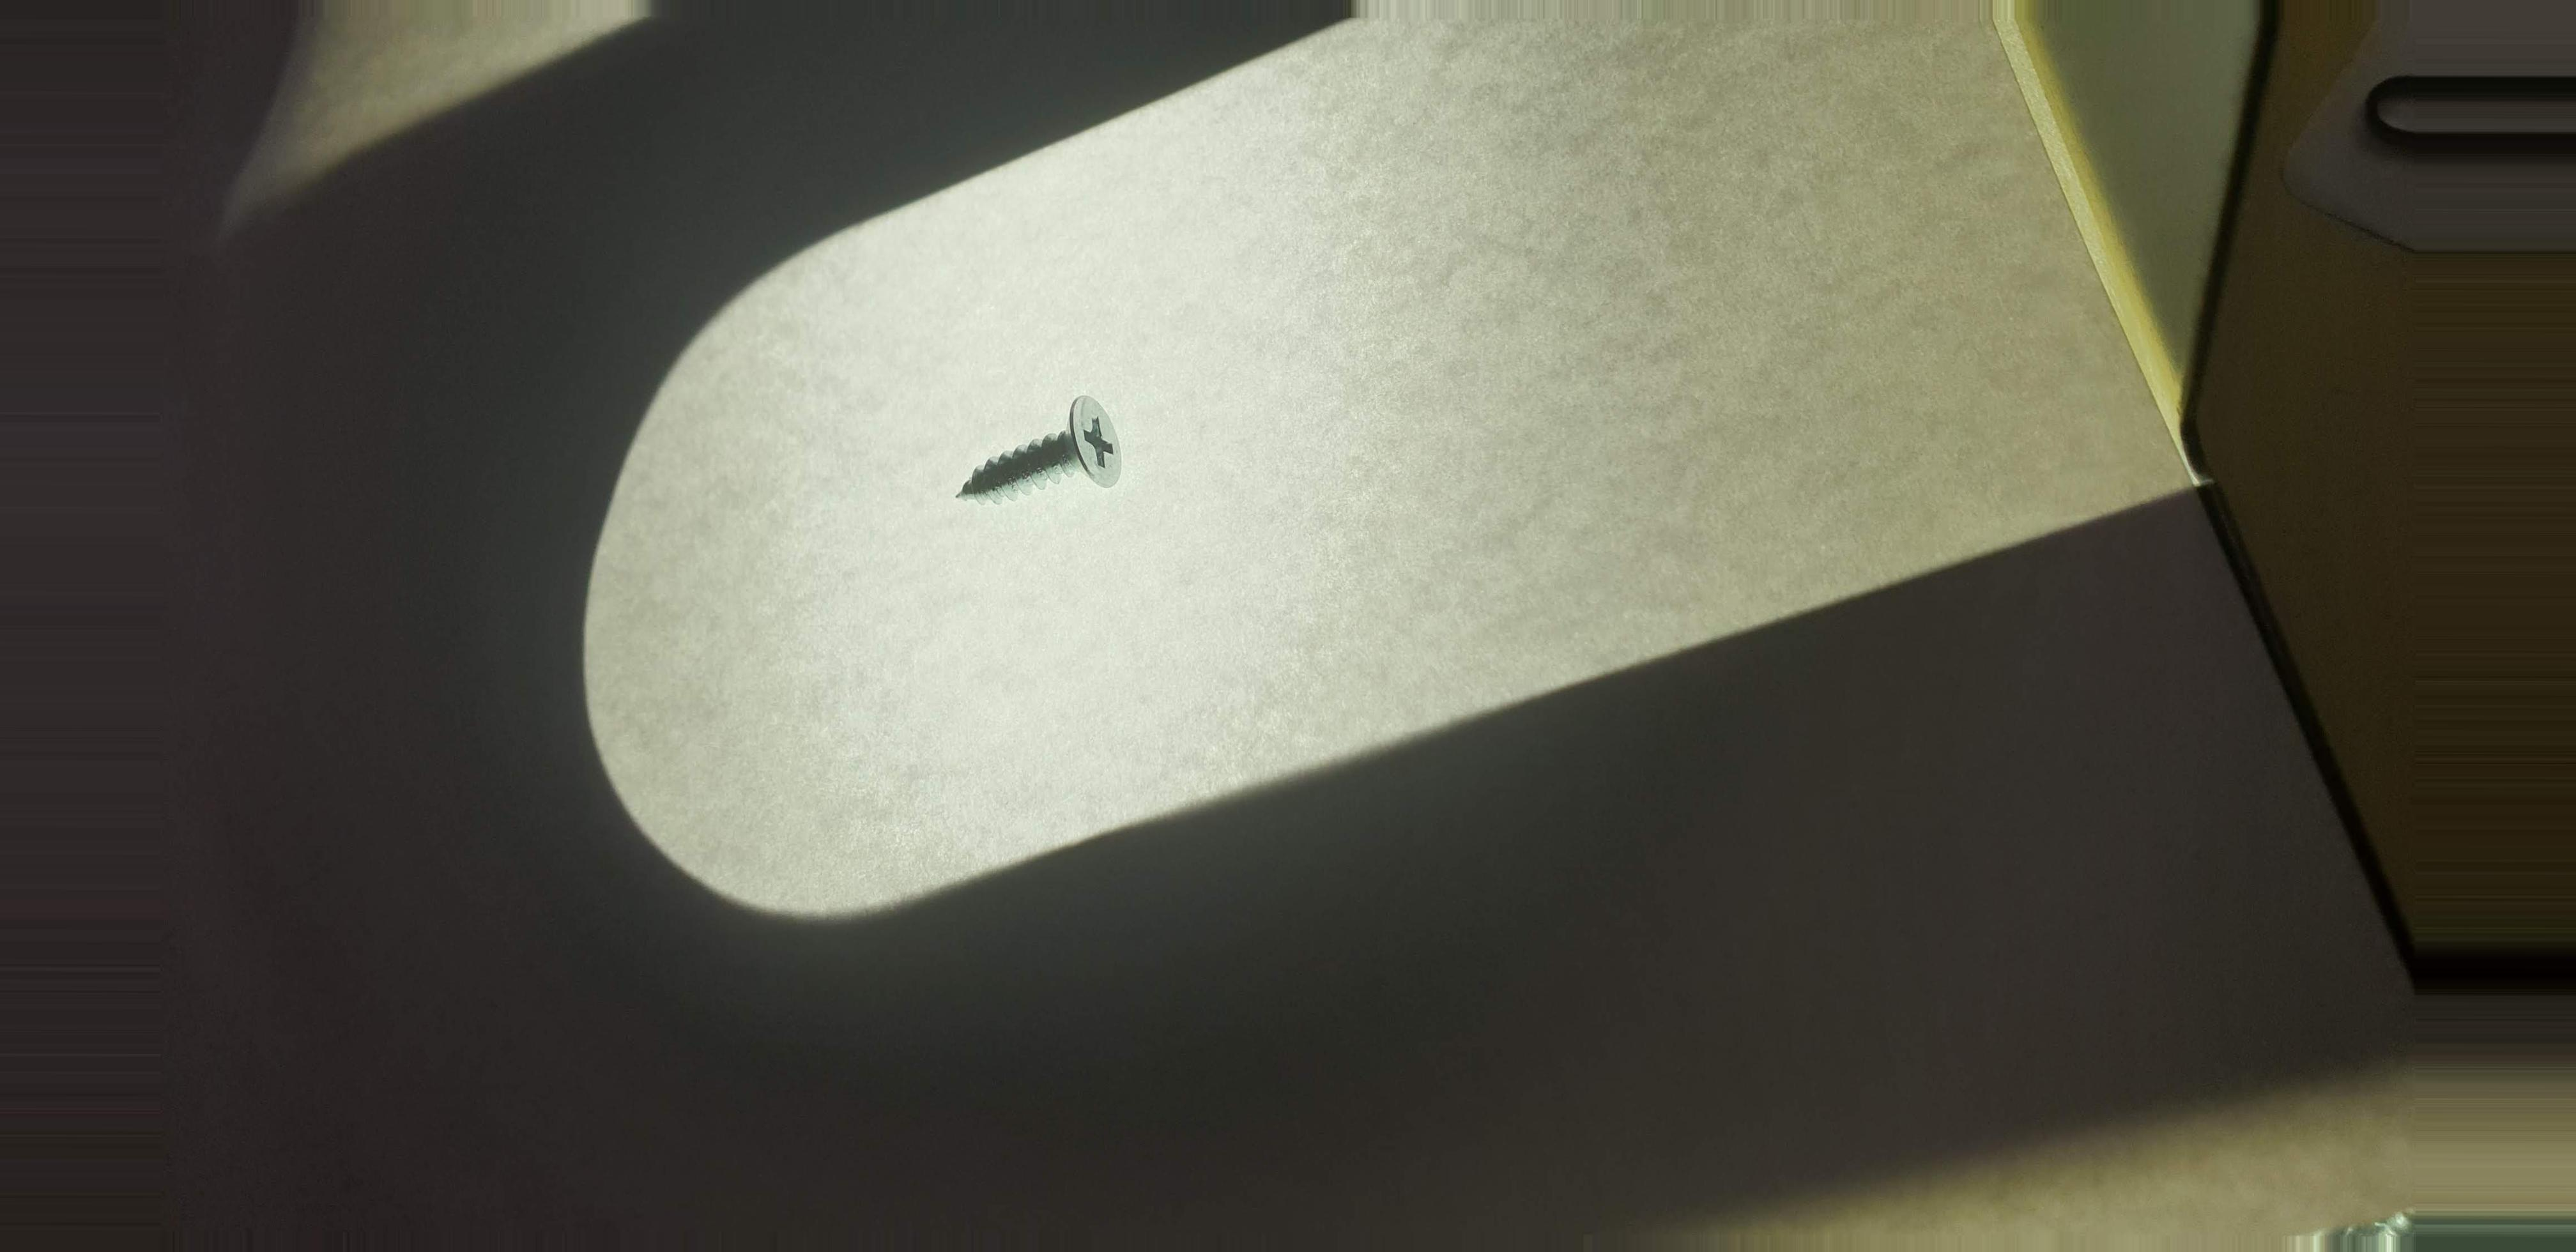S003: (928, 373, 1153, 518)
